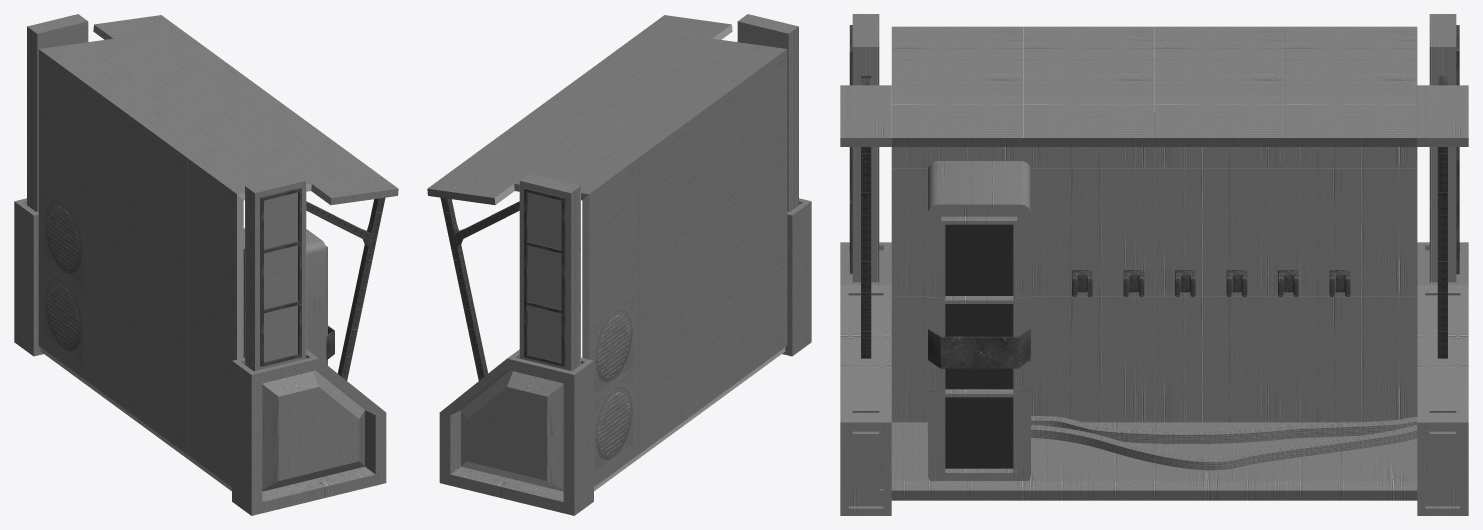
File: WeaponFactory.fbx
The picture shows the model from 3 angles, left to right: view 1: azimuth 30°, elevation 25°; view 2: azimuth 150°, elevation 25°; view 3: azimuth 270°, elevation 25°; orthographic projection. The views are drawn at different scales.
Parts seen in each view (by area): view 1: WeaponFactory_LOD0; view 2: WeaponFactory_LOD0; view 3: WeaponFactory_LOD0.
Boxes of the visible parts, x1,y1,x2,y2 form: WeaponFactory_LOD0: (14, 14, 398, 515); WeaponFactory_LOD0: (427, 14, 811, 515); WeaponFactory_LOD0: (840, 14, 1468, 515).
Size of what is drawn, in the model's own units: 218 by 450 by 610.
